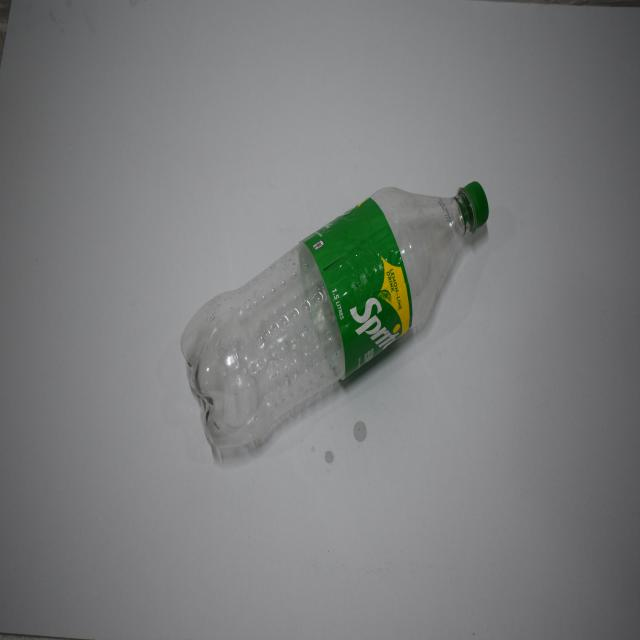bottle: (173, 156, 496, 475)
